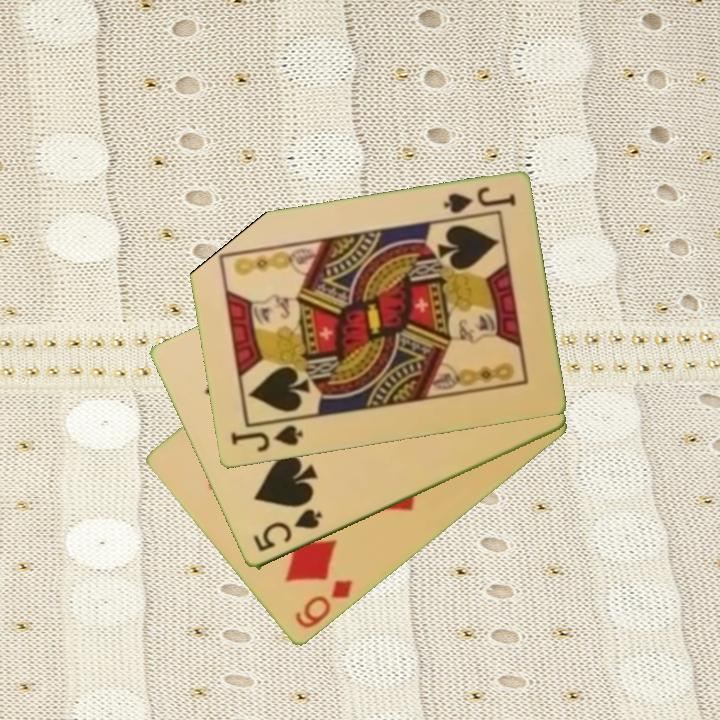5s: (249, 505, 325, 556)
6d: (291, 576, 356, 632)
Js: (439, 183, 519, 218), (227, 422, 306, 455)
